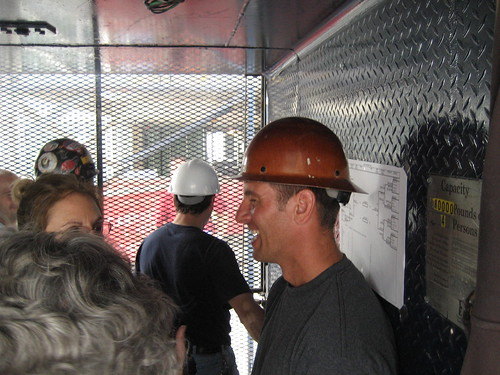person hardhat: (232, 113, 390, 375), (136, 149, 268, 375), (27, 134, 115, 209)
